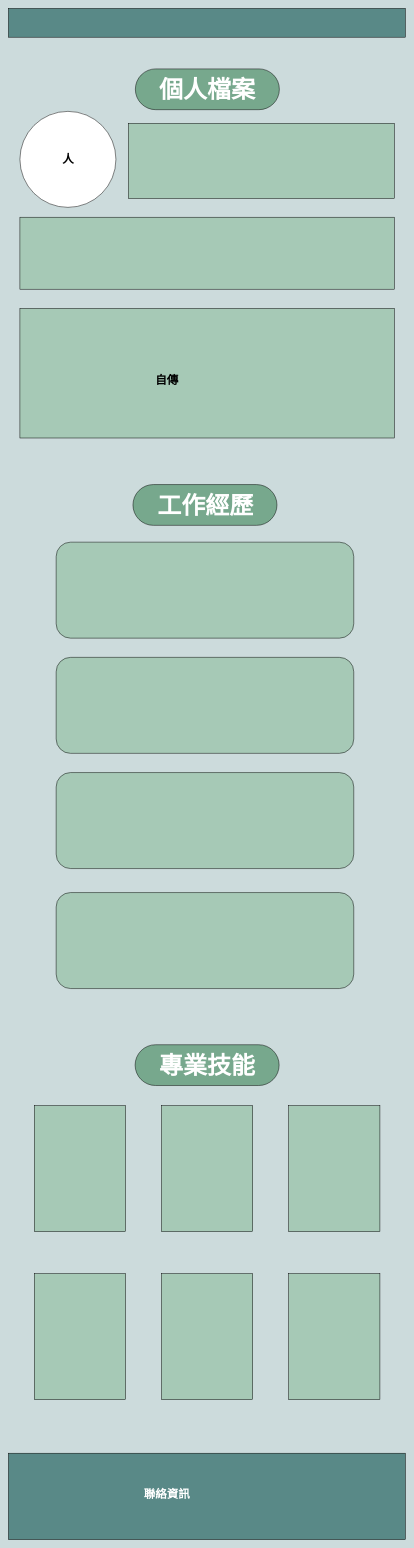
This 414x1548 diagram has some shape labels left out. Here are the shapes that lost their labels. From the top down, the centre of each, then its label:
point 206,22: 個人檔案 工作經歷 學歷 專業技能
point 261,160: 個人簡介
point 206,253: 興趣、mbti、血型
